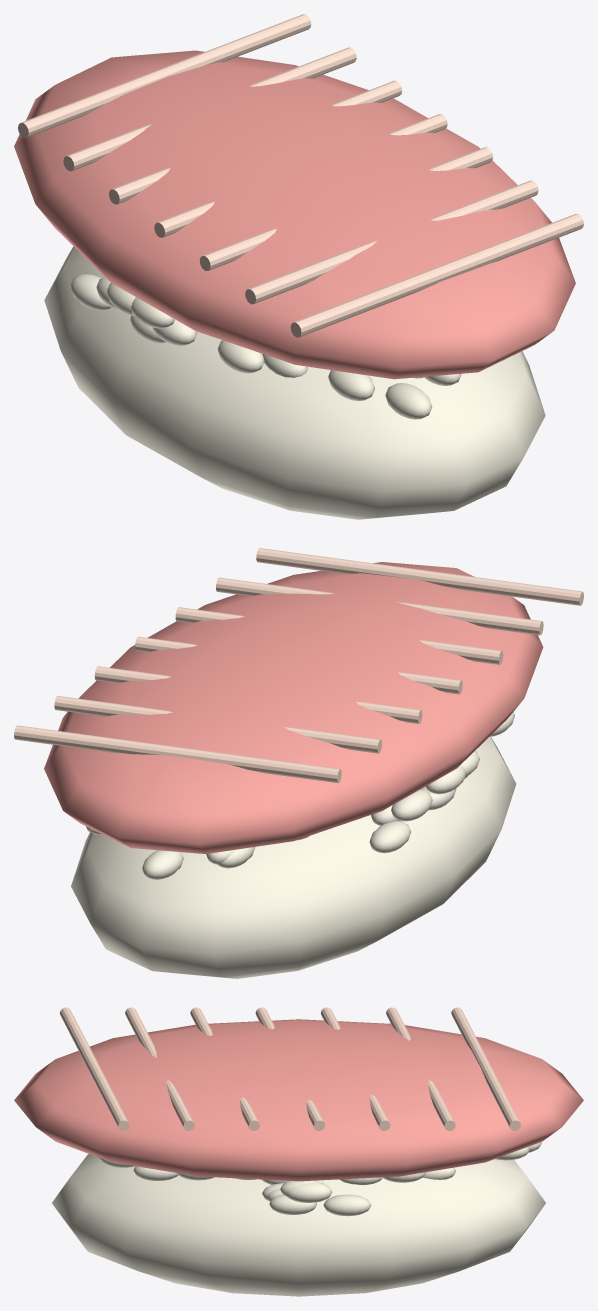
File: Food0.fbx
3 views of the same model, one above another, from view 1: azimuth 30°, elevation 25°; view 2: azimuth 150°, elevation 25°; view 3: azimuth 270°, elevation 25° (orthographic). The views are drawn at different scales.
Visible parts, largest first — view 1: Food0; view 2: Food0; view 3: Food0.
Boxes of the visible parts, x1,y1,x2,y2 form: Food0: (14, 14, 583, 519); Food0: (14, 548, 583, 978); Food0: (14, 1007, 583, 1296).
Bounding box in the file's own units: 9.6 × 6.9 × 16.6.
